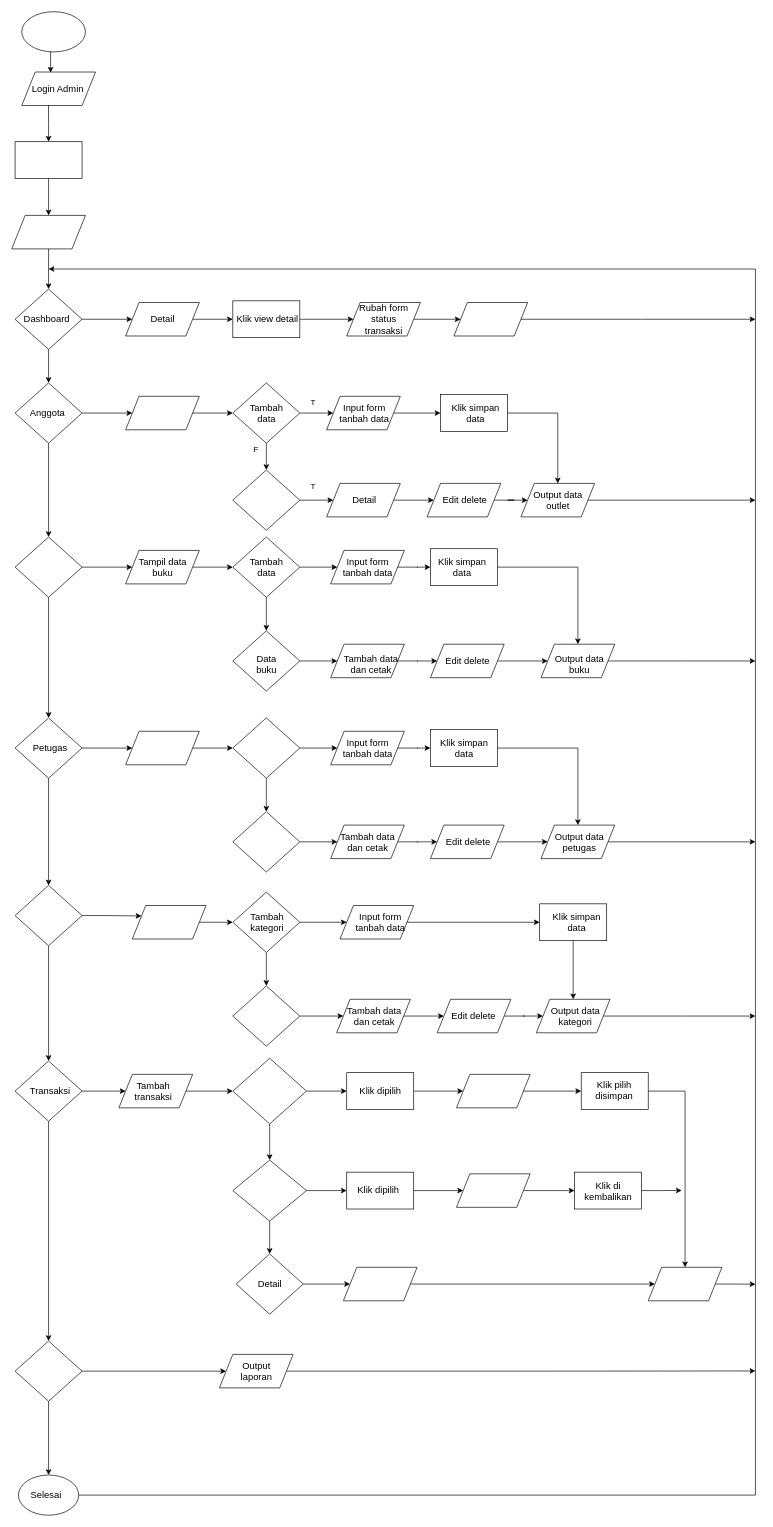
The diagram is 773 pixels wide and 1527 high, and some of its shapes have lost their labels. Here are the shapes that lost their labels. From the top down, the centre of each, then its label:
(53,31): Mulai
(48,160): Input email & password
(48,232): Dashboard Admin
(490,319): Output data
(162,413): Tampil data anggota
(266,499): Data anggota
(48,566): Buku
(162,748): Tampil data petugas
(266,747): Tambah petugas
(266,841): Data petugas
(48,915): Kategori
(169,922): Tampil data kategori
(266,1015): Data kategori
(269,1091): Tambah transaksi peminjaman
(493,1091): Input form tambah data
(269,1190): Konfirmasi pengembalian
(493,1190): Input form pengembalian
(380,1284): Ubah/edit status transaksi
(685,1284): Output data transaksi
(48,1370): Laporan
